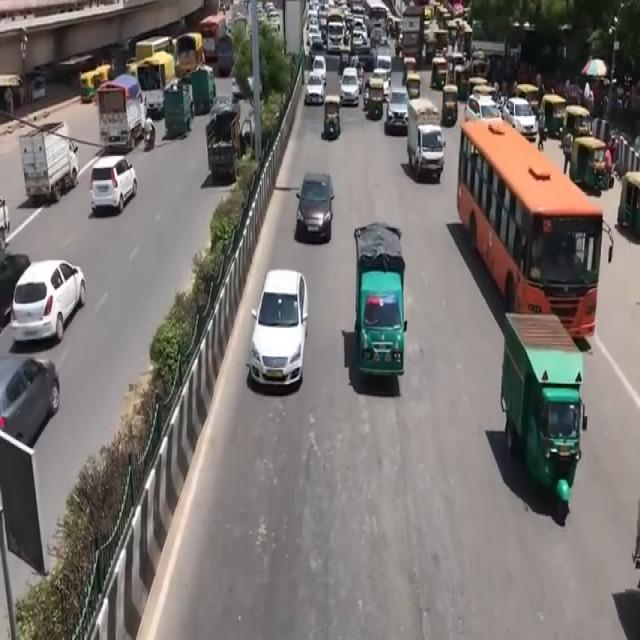BUS: (460, 124, 607, 355)
